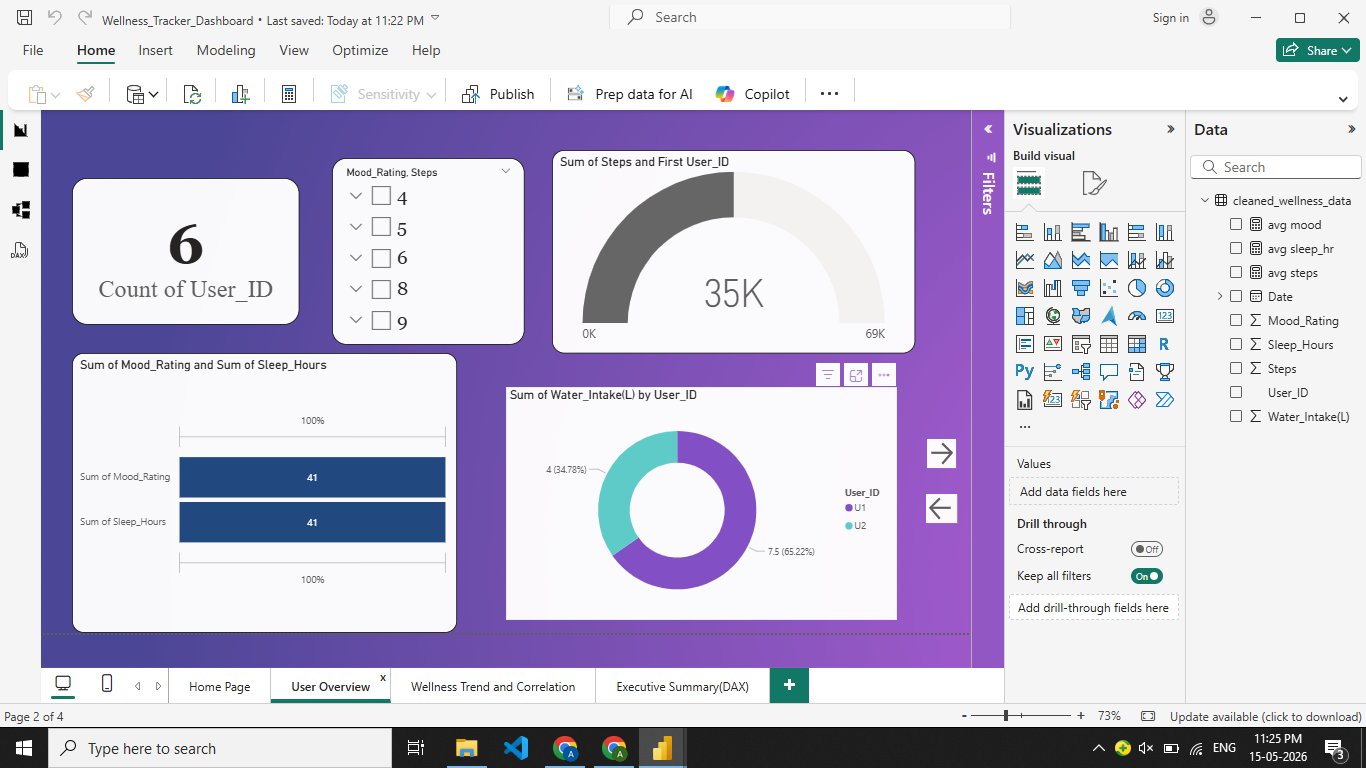

The page's visual inventory and layout, read from the dashboard file:
{"tool":"powerbi","page":{"name":"User Overview","canvas":[1280,720],"ordinal":1},"visuals":[{"type":"card","fields":{"Values":["CountNonNull(cleaned_wellness_data.User_ID)"]},"box":[43.3,93.3,313.3,201.7],"z":0},{"type":"gauge","fields":{"Y":["Sum(cleaned_wellness_data.Steps)"]},"box":[703.3,55,500,280],"z":1000},{"type":"donutChart","fields":{"Y":["Sum(cleaned_wellness_data.Water_Intake_Litres)"],"Category":["cleaned_wellness_data.User_ID"]},"box":[640,381.7,538.3,320],"z":2000},{"type":"slicer","fields":{"Values":["cleaned_wellness_data.Mood_Rating(1-10)","cleaned_wellness_data.Steps"]},"box":[400,66.7,265,256.7],"z":3000},{"type":"funnel","fields":{"Y":["Sum(cleaned_wellness_data.Mood_Rating(1-10))","Sum(cleaned_wellness_data.Sleep_Hours)"]},"box":[43.3,335,530,385],"z":4000},{"type":"actionButton","box":[1218.3,528.3,43.3,40],"z":5000},{"type":"actionButton","box":[1220,453.3,40,40],"z":6000}]}

Visuals, with their boxes on the page's 1280x720 design canvas (x1, y1, x2, y2). These are canvas units, not pixel positions in the 1366x768 screenshot, which may show the page scaled, cropped or inside an application window:
card - CountNonNull(cleaned_wellness_data.User_ID): locate(43, 93, 357, 295)
gauge - Sum(cleaned_wellness_data.Steps): locate(703, 55, 1203, 335)
donutChart - Sum(cleaned_wellness_data.Water_Intake_Litres) x cleaned_wellness_data.User_ID: locate(640, 382, 1178, 702)
slicer - cleaned_wellness_data.Mood_Rating(1-10) x cleaned_wellness_data.Steps: locate(400, 67, 665, 323)
funnel - Sum(cleaned_wellness_data.Mood_Rating(1-10)) x Sum(cleaned_wellness_data.Sleep_Hours): locate(43, 335, 573, 720)
actionButton: locate(1218, 528, 1262, 568)
actionButton: locate(1220, 453, 1260, 493)
